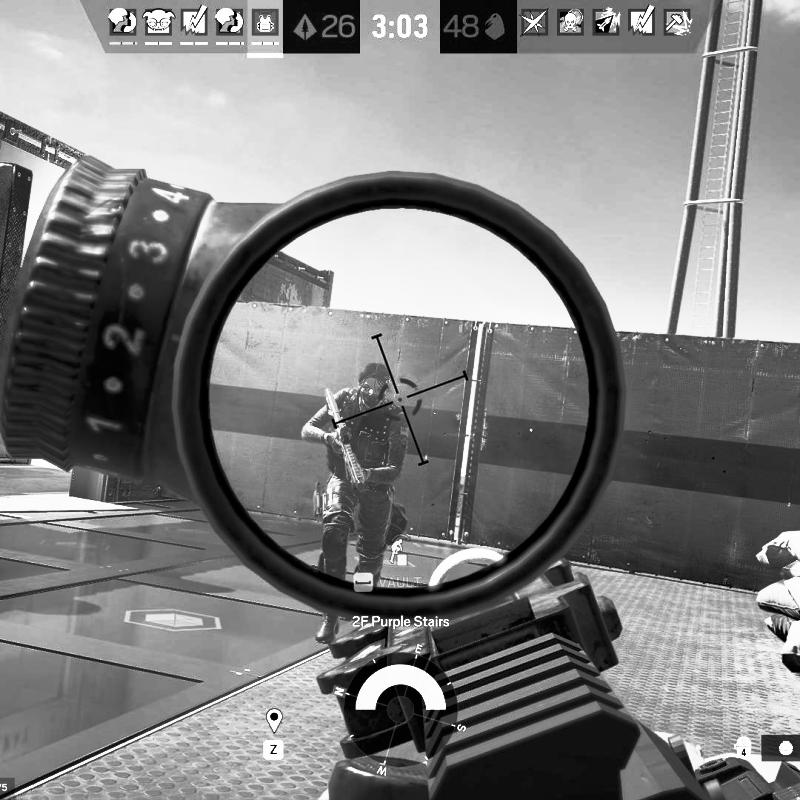Character: (300, 360, 412, 646)
Head: (355, 362, 391, 407)
